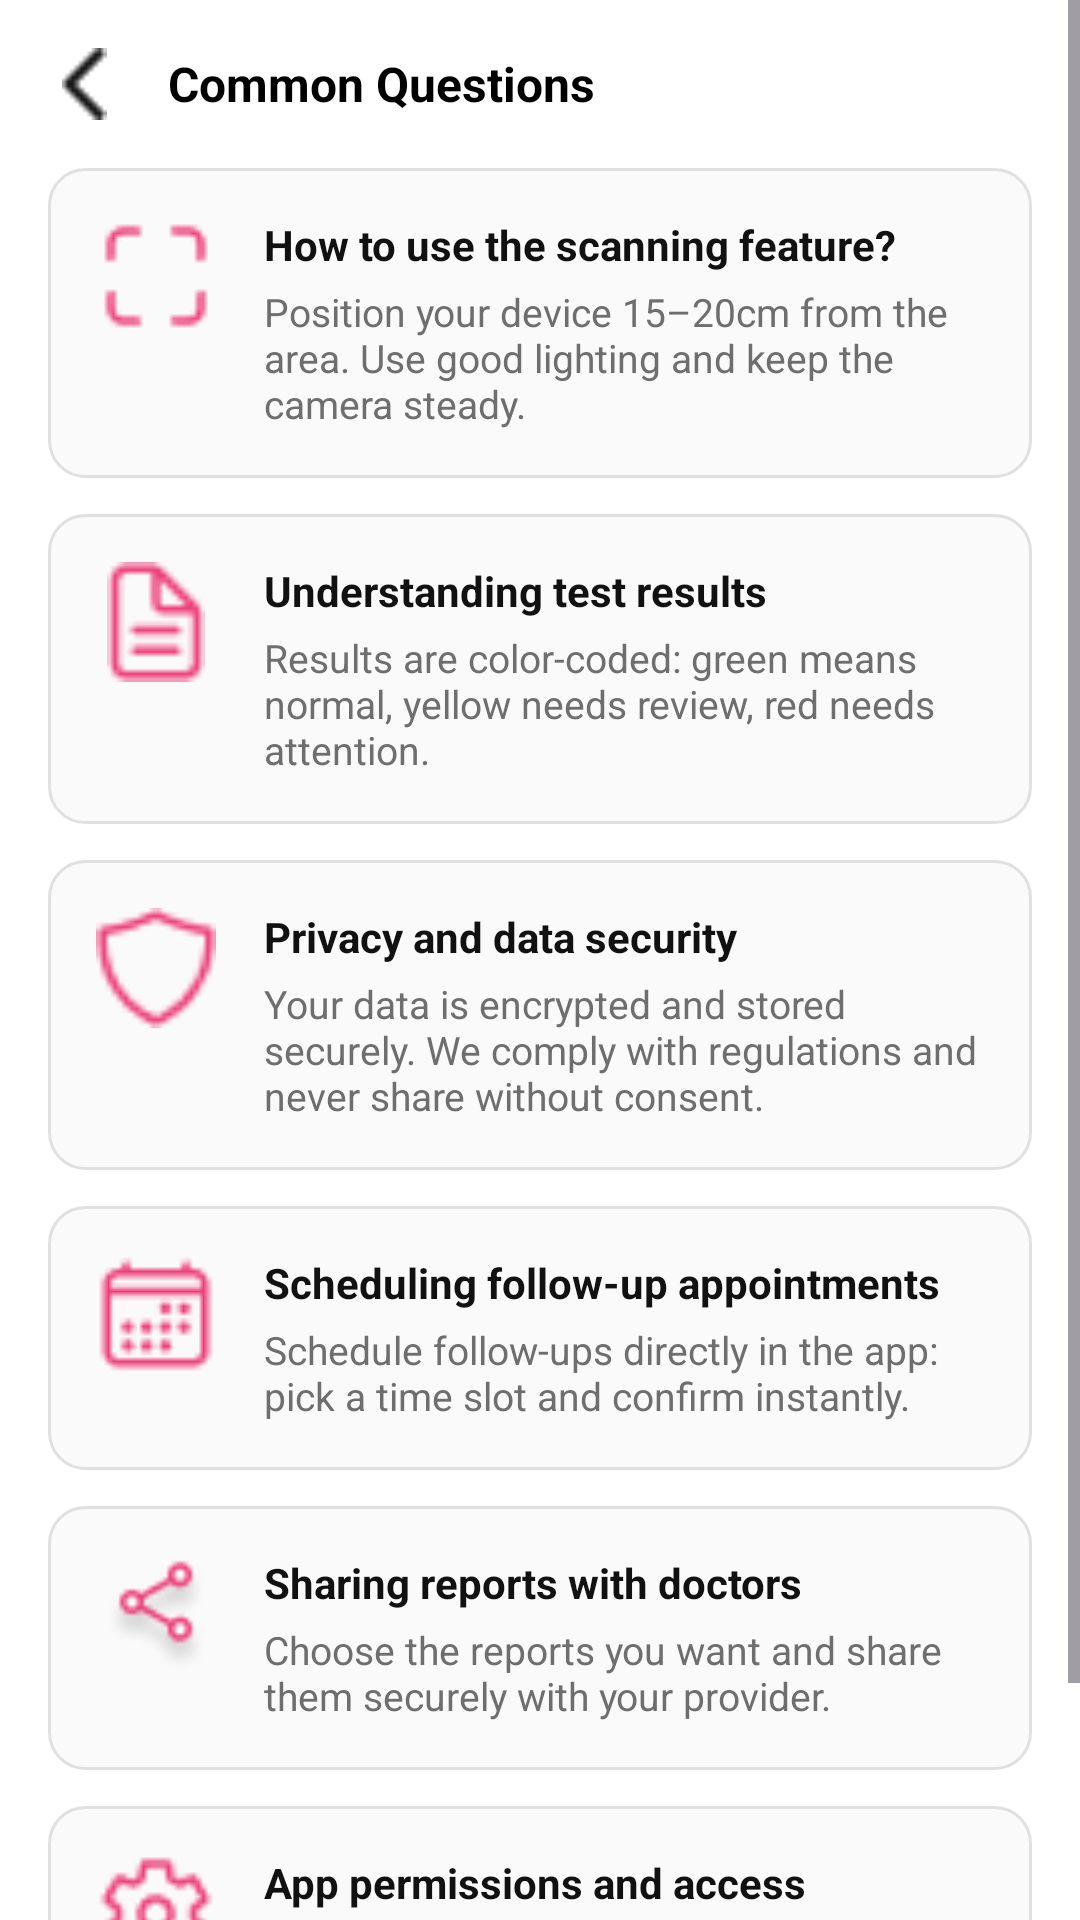

Icons on this 1080x1920 Android screen, each with the point to tap as (x=x, y=y):
Back: (x=84, y=84)
calender: (x=156, y=1314)
